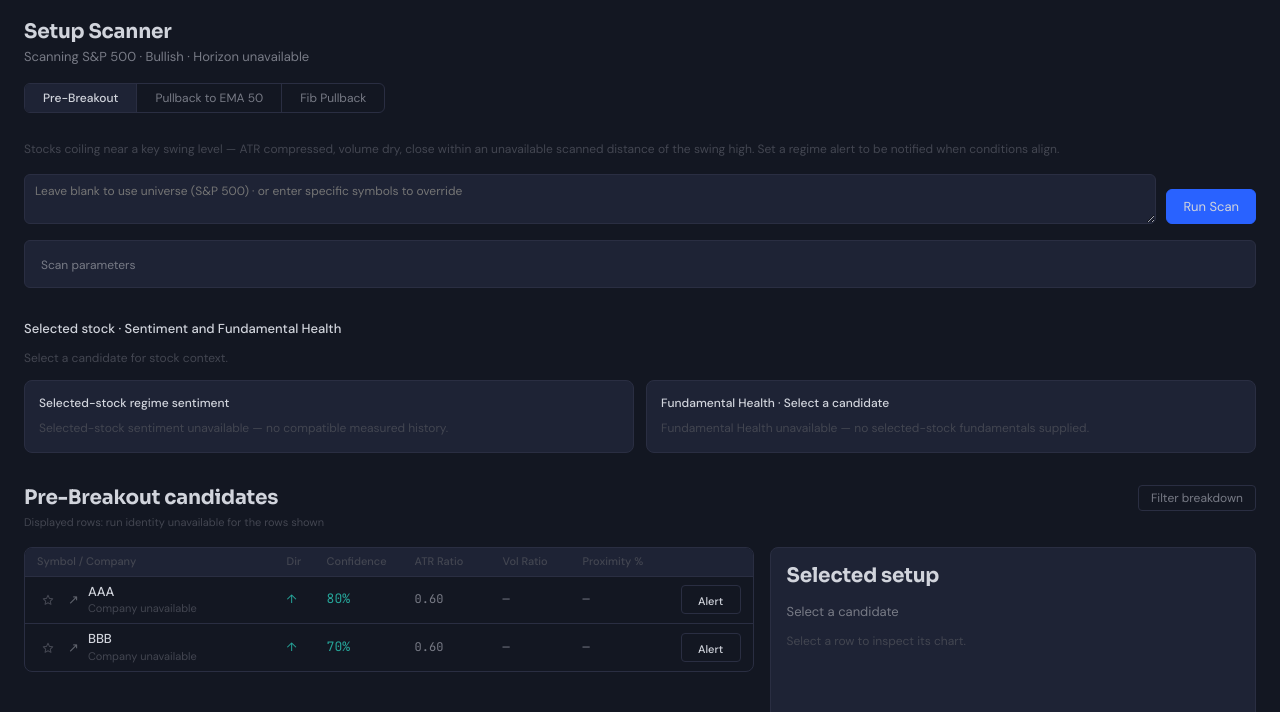
candidates heading carries the filter breakdown; opening it keeps controls, rows and selection
Expected: the heading "Pre-Breakout candidates" is shown, [24, 486, 278, 510]
Step 1. Click the button with aria-label "Select BBB" → (142, 656), box [25, 624, 753, 671]
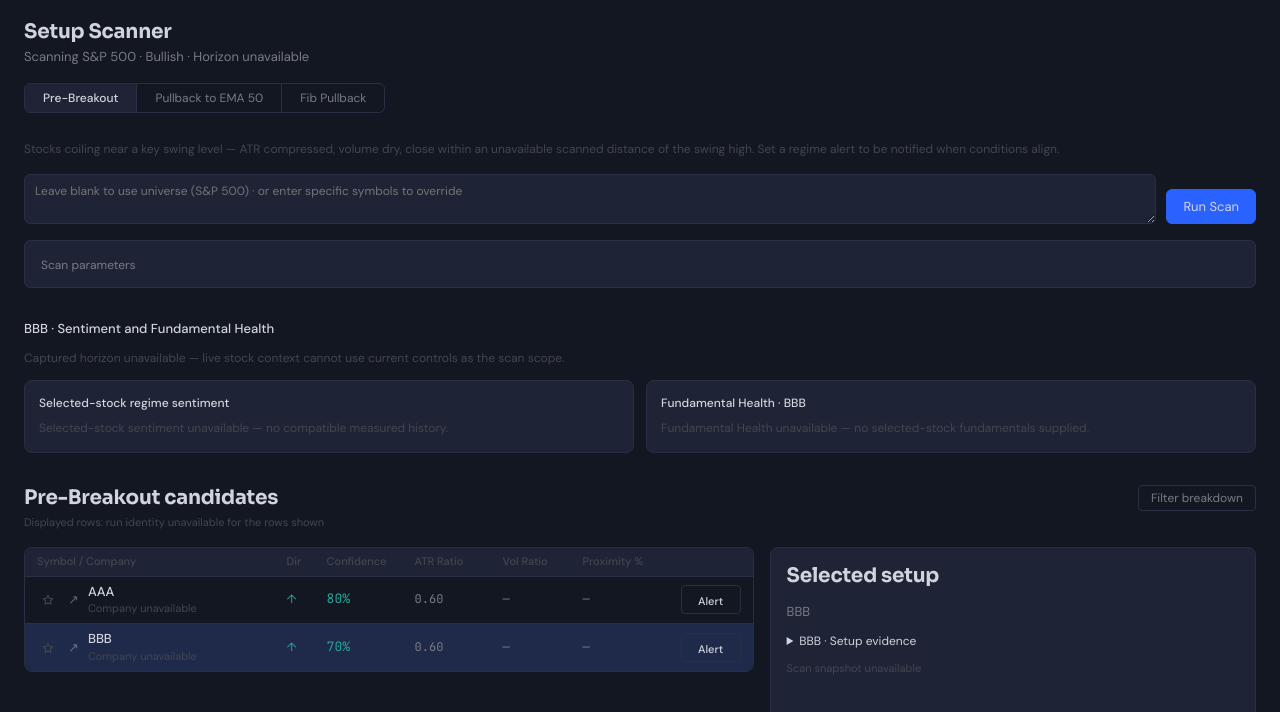
Step 2. Click the button "Filter breakdown" → (1197, 498), box [1138, 485, 1256, 511]
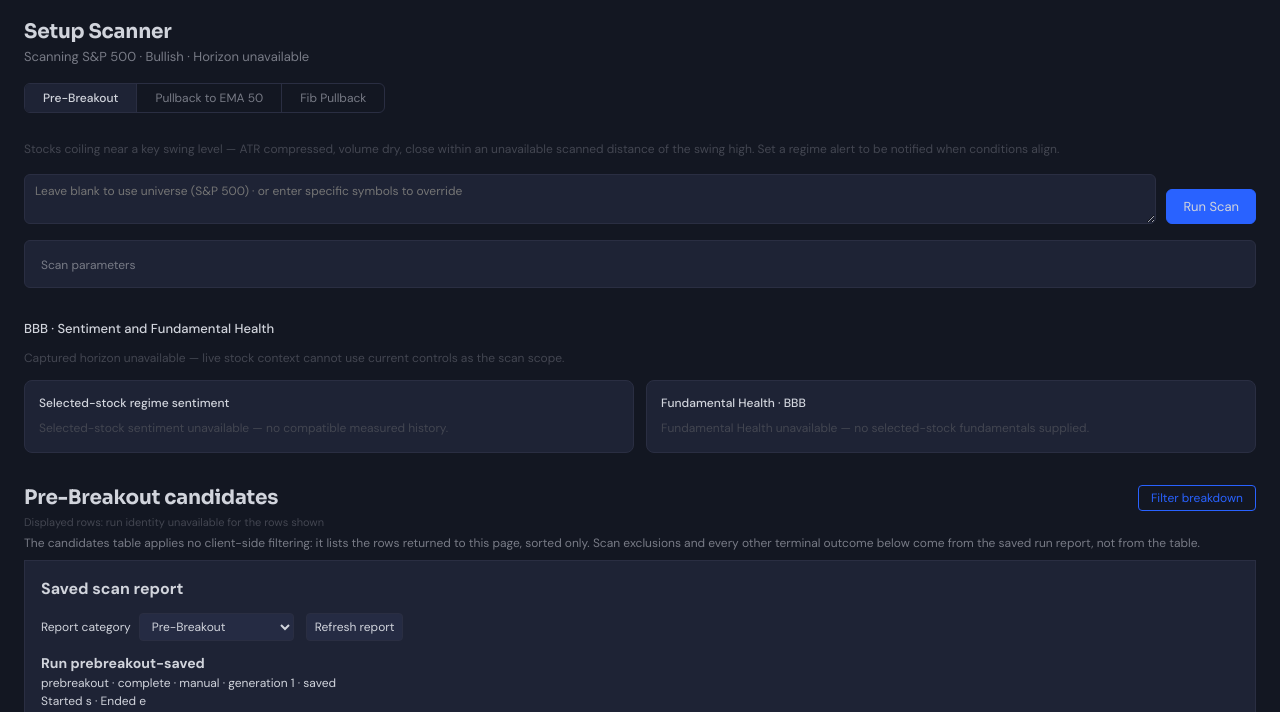
Expected: the button "Filter breakdown" is expanded
Expected: the heading "Run prebreakout-saved" is shown, [41, 654, 205, 672]
Expected: the text "no client-side filter" is shown, [24, 535, 1200, 551]
Step 3. Click the button "Filter breakdown" → (1197, 498), box [1138, 485, 1256, 511]
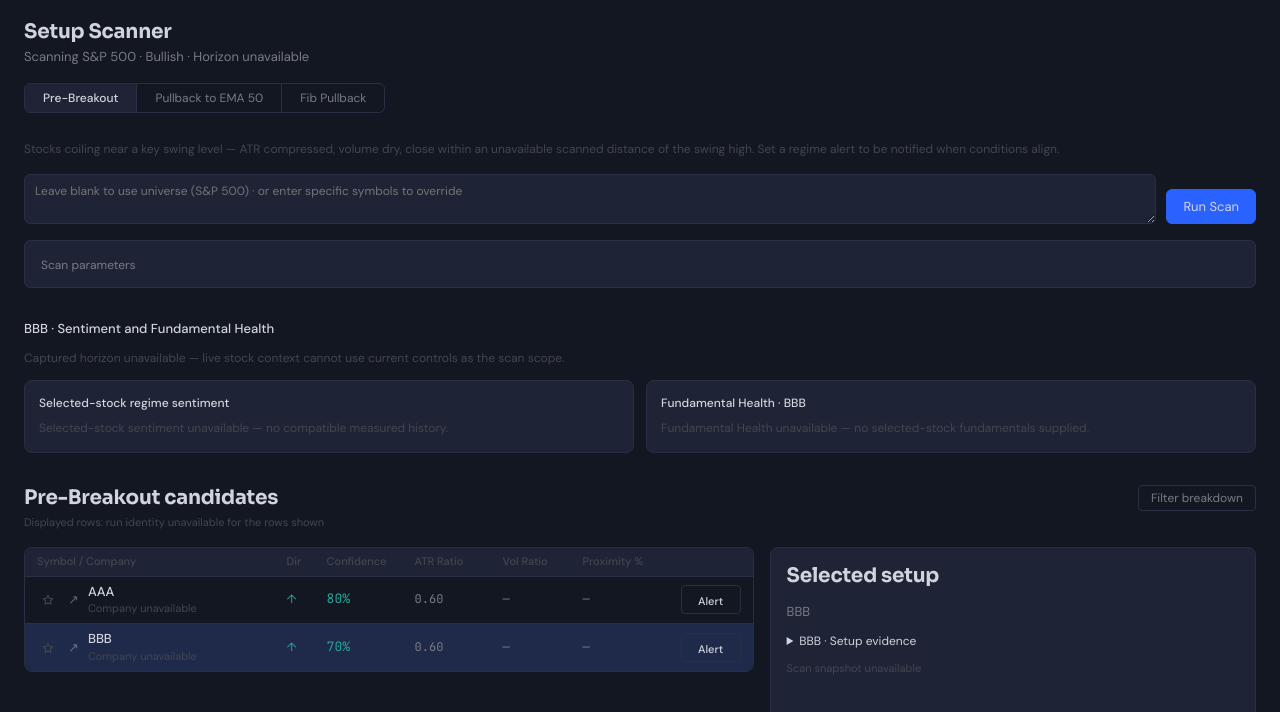
Expected: the button "Filter breakdown" is collapsed, [1138, 485, 1256, 511]
